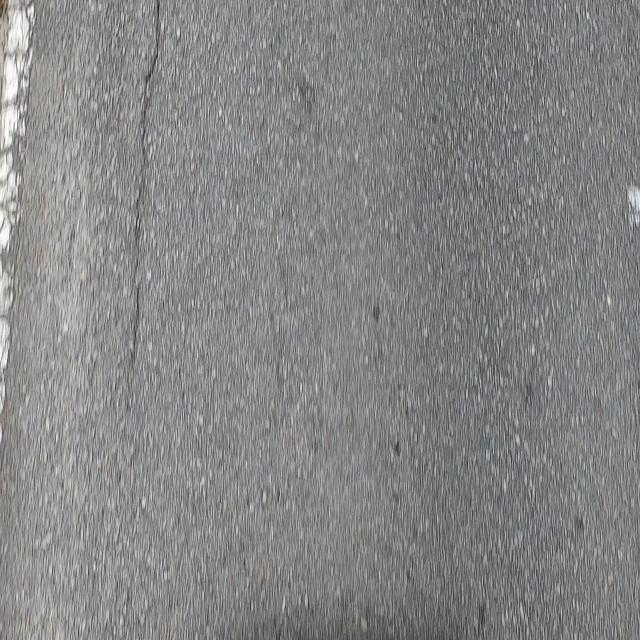Retak-Memanjang: (126, 0, 164, 371)
